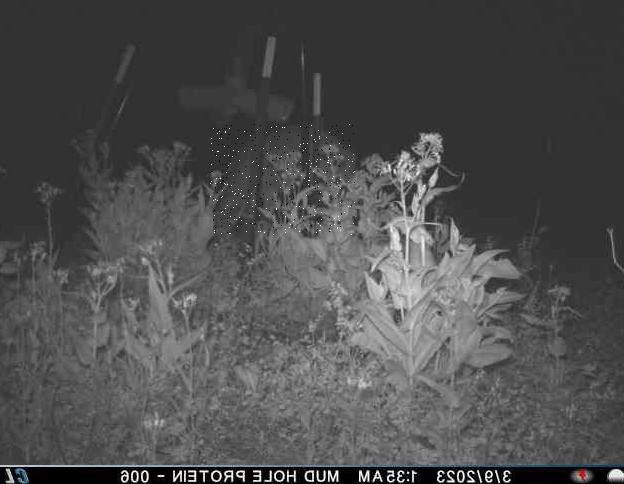Deer: (210, 125, 355, 236)
